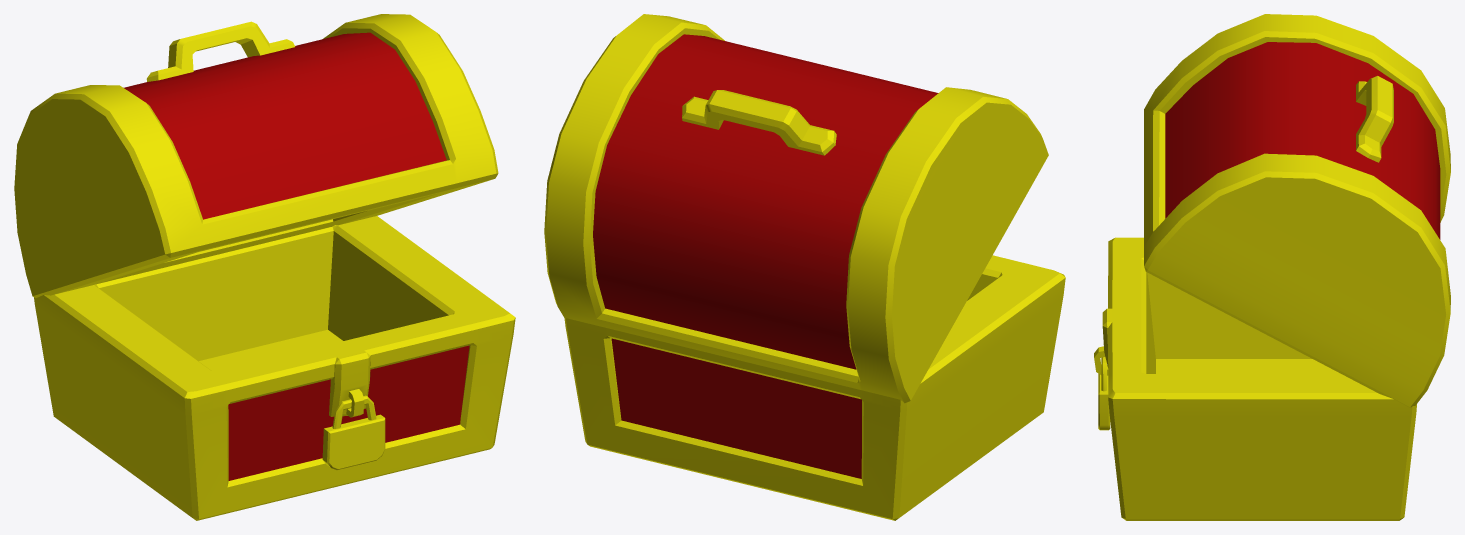
The model's file is TresureChest.fbx.
3 renders of one model, left to right at view 1: azimuth 30°, elevation 25°; view 2: azimuth 150°, elevation 25°; view 3: azimuth 270°, elevation 25°, orthographic. The views are drawn at different scales.
Visible parts, largest first — view 1: polySurface2, polySurface1; view 2: polySurface1, polySurface2; view 3: polySurface1, polySurface2.
Boxes of the visible parts, x1,y1,x2,y2 form: polySurface2: [34, 216, 515, 520]; polySurface1: [14, 14, 498, 298]; polySurface1: [544, 14, 1048, 403]; polySurface2: [564, 255, 1065, 520]; polySurface1: [1144, 14, 1450, 407]; polySurface2: [1094, 237, 1416, 520].
Size of the model in its own units: 820 by 848 by 767.
